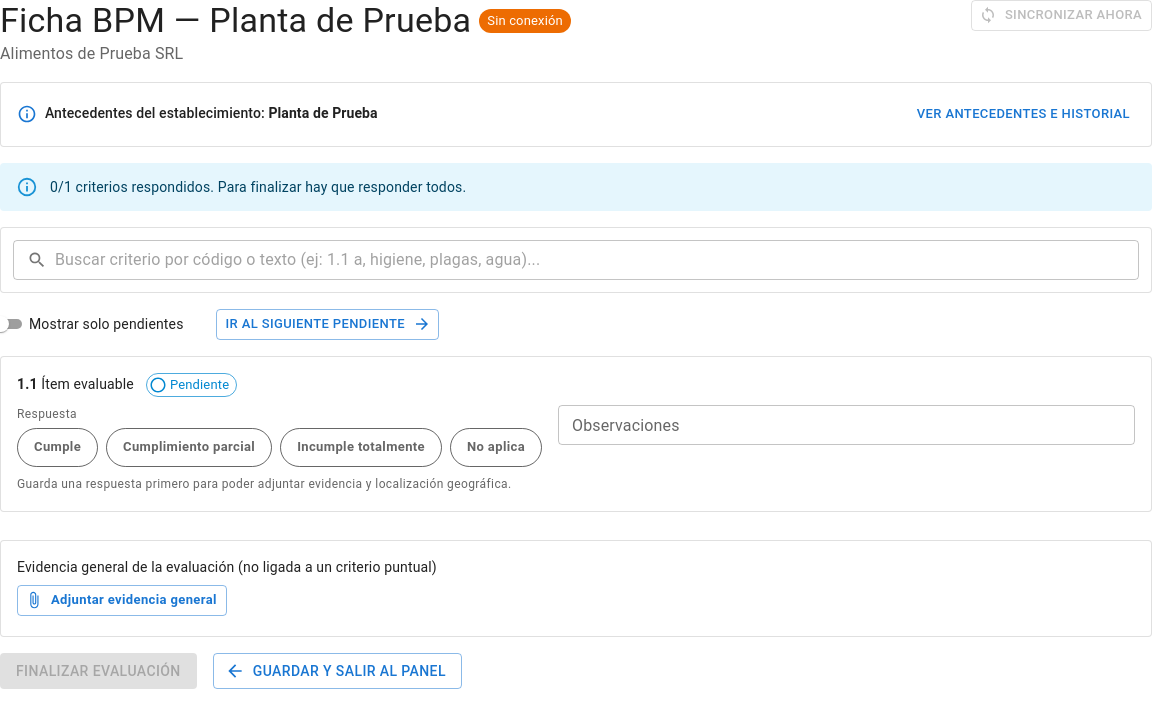
EjecutarEvaluacion — sin conexión › sin conexión, encola el punto GPS como evidencia sin comprimir (no es imagen)
The image size is (1152, 720).
Expected: the text "Evidencia general de la evaluación (no ligada a un criterio puntual)" is shown, x1=17 y1=559 x2=437 y2=575
Click the button "Adjuntar evidencia general" at x=122, y=600, box x1=17 y1=585 x2=227 y2=616
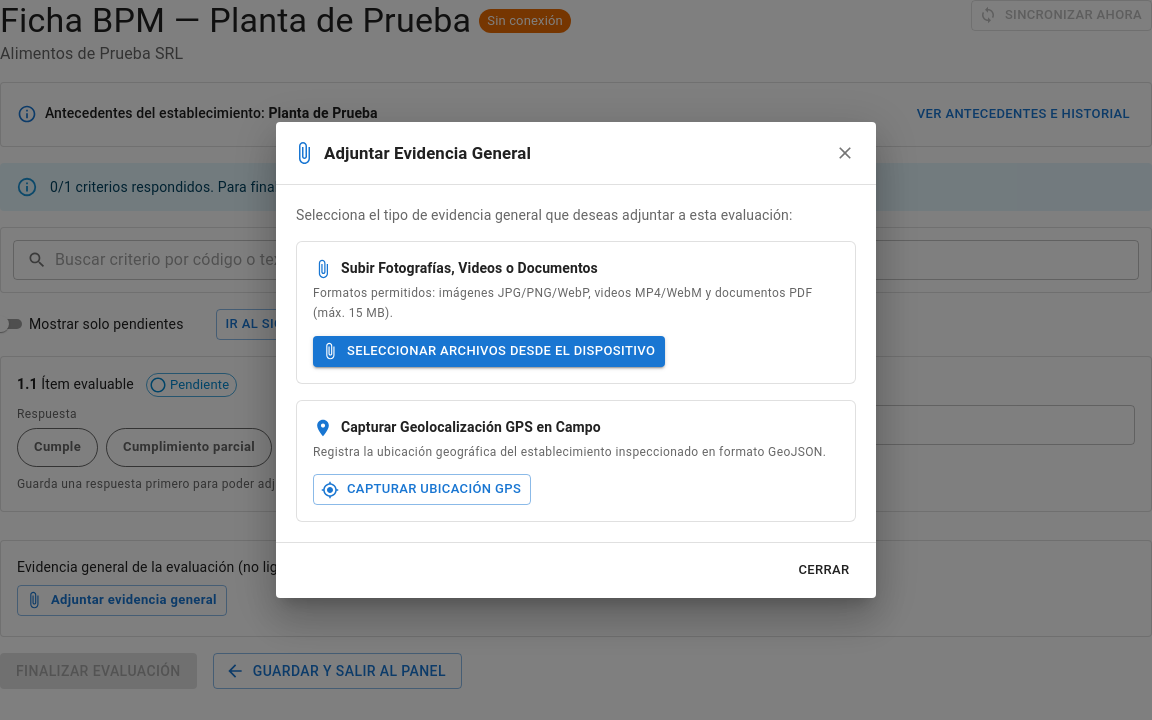
Result: the heading "Capturar Geolocalización GPS en Campo" is shown at x1=313 y1=418 x2=601 y2=438
Click the button "Capturar ubicación GPS" at x=422, y=490, box x1=313 y1=474 x2=531 y2=505
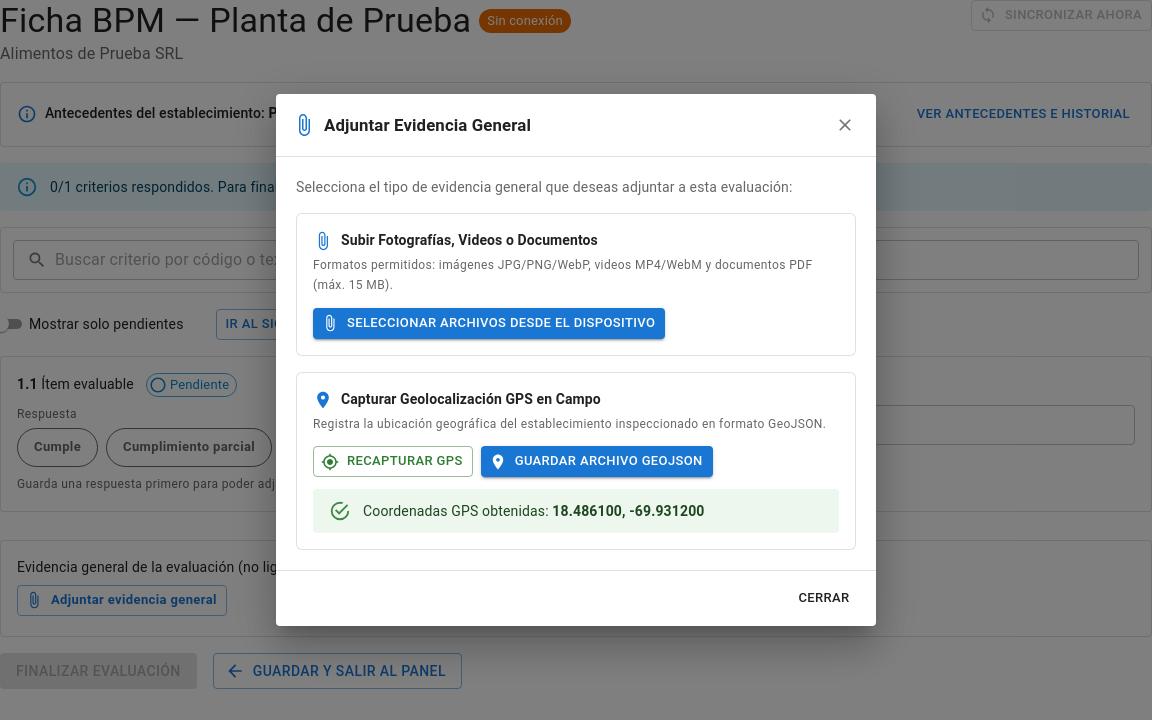
Result: the button "Guardar archivo GeoJSON" is shown
Click the button "Guardar archivo GeoJSON" at x=597, y=462, box x1=481 y1=446 x2=713 y2=477
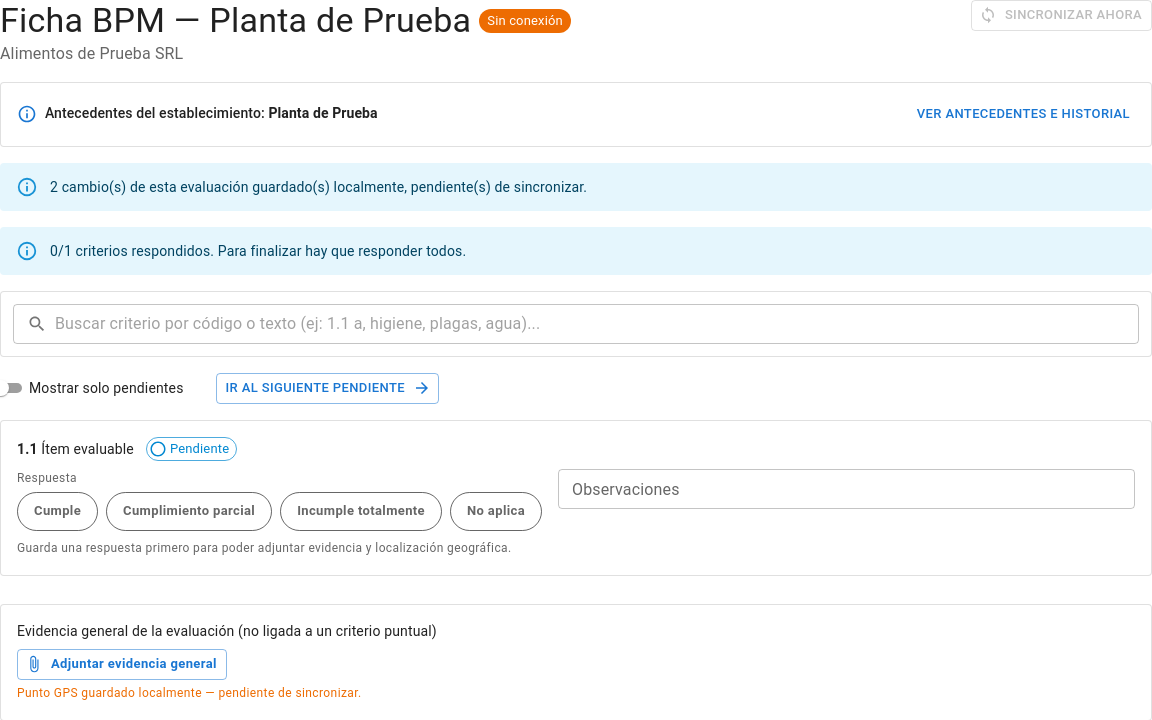
Result: the text "Punto GPS guardado localmente — pendiente de sincronizar." is shown at x1=17 y1=686 x2=362 y2=700
